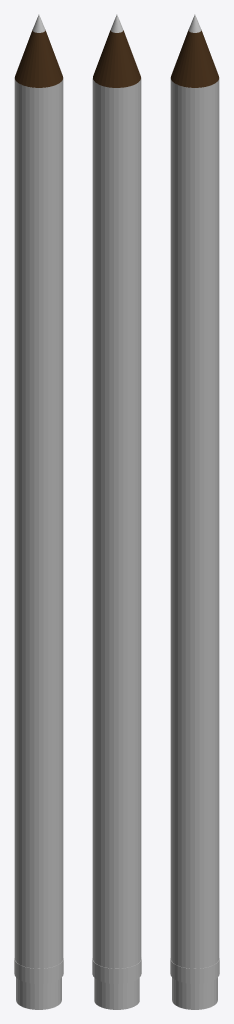
The model's file is pensil.obj.
The picture shows the model from 3 angles, left to right: view 1: azimuth 90°, elevation 25°; view 2: azimuth 150°, elevation 25°; view 3: azimuth 270°, elevation 25°; orthographic projection.
Visible parts, largest first — view 1: Конус_Конус; view 2: Конус_Конус; view 3: Конус_Конус.
Boxes of the visible parts, left/top/right/bottom form: Конус_Конус: left=14, top=14, right=63, bottom=1009; Конус_Конус: left=92, top=14, right=141, bottom=1009; Конус_Конус: left=170, top=14, right=219, bottom=1009.
Size of the model in its own units: 0.1358 by 3 by 0.1358.
